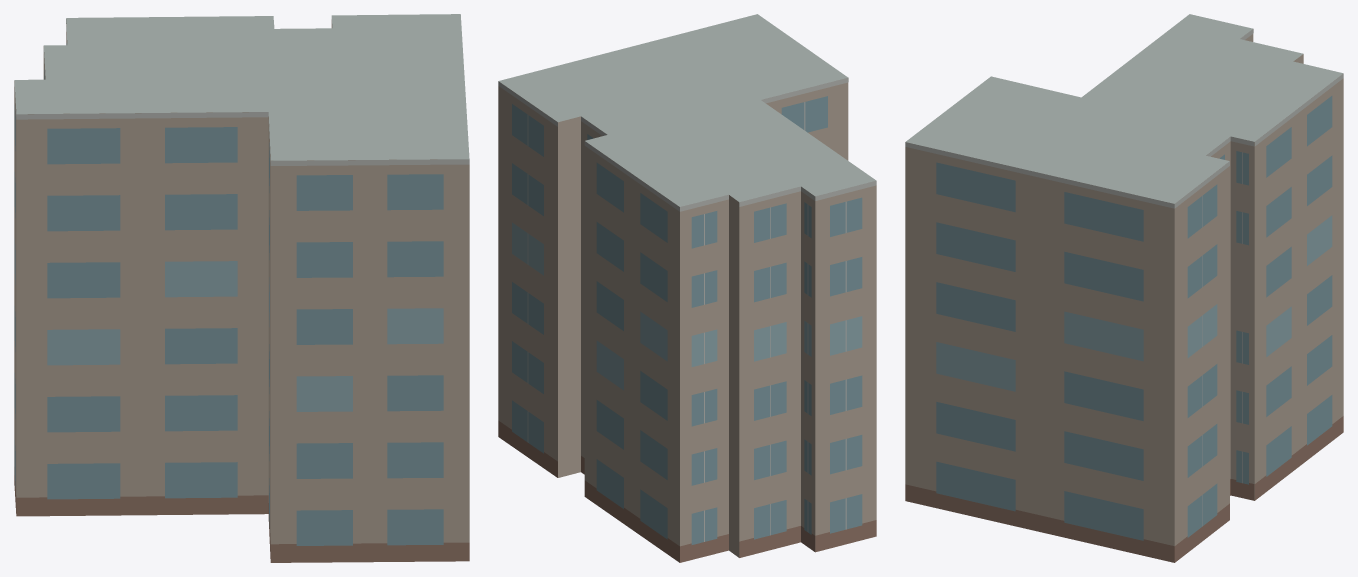
File: survey-upis-32972500.glb
The picture shows the model from 3 angles, left to right: view 1: azimuth 30°, elevation 25°; view 2: azimuth 150°, elevation 25°; view 3: azimuth 270°, elevation 25°; orthographic projection. The views are drawn at different scales.
Parts seen in each view (by area): view 1: survey-upis-32972500.tmp; view 2: survey-upis-32972500.tmp; view 3: survey-upis-32972500.tmp.
Part boxes in pixels (x1,y1,x2,y2): survey-upis-32972500.tmp: [14, 14, 469, 562]; survey-upis-32972500.tmp: [498, 14, 876, 562]; survey-upis-32972500.tmp: [905, 14, 1343, 562].
Bounding box in the file's own units: 20.77 × 18.3 × 20.26.
